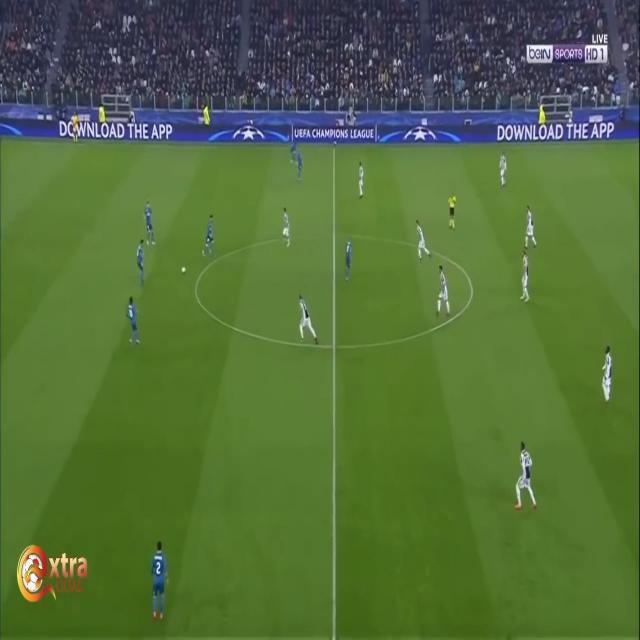ball: (180, 263, 186, 280)
player: (516, 437, 537, 516), (295, 292, 322, 352), (149, 536, 170, 612), (435, 263, 454, 325), (412, 216, 433, 265), (516, 249, 534, 305), (142, 198, 159, 248), (124, 295, 140, 346), (202, 209, 217, 260), (133, 234, 147, 283), (280, 205, 293, 251), (525, 204, 537, 252), (497, 150, 511, 190), (345, 237, 355, 283), (357, 159, 367, 201), (296, 153, 304, 189), (290, 143, 297, 164)
referee: (446, 191, 459, 237)
